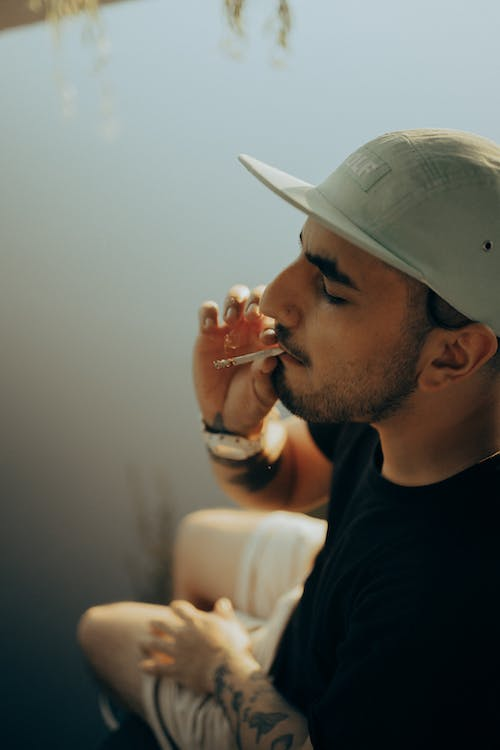cigarette: (211, 343, 284, 371)
